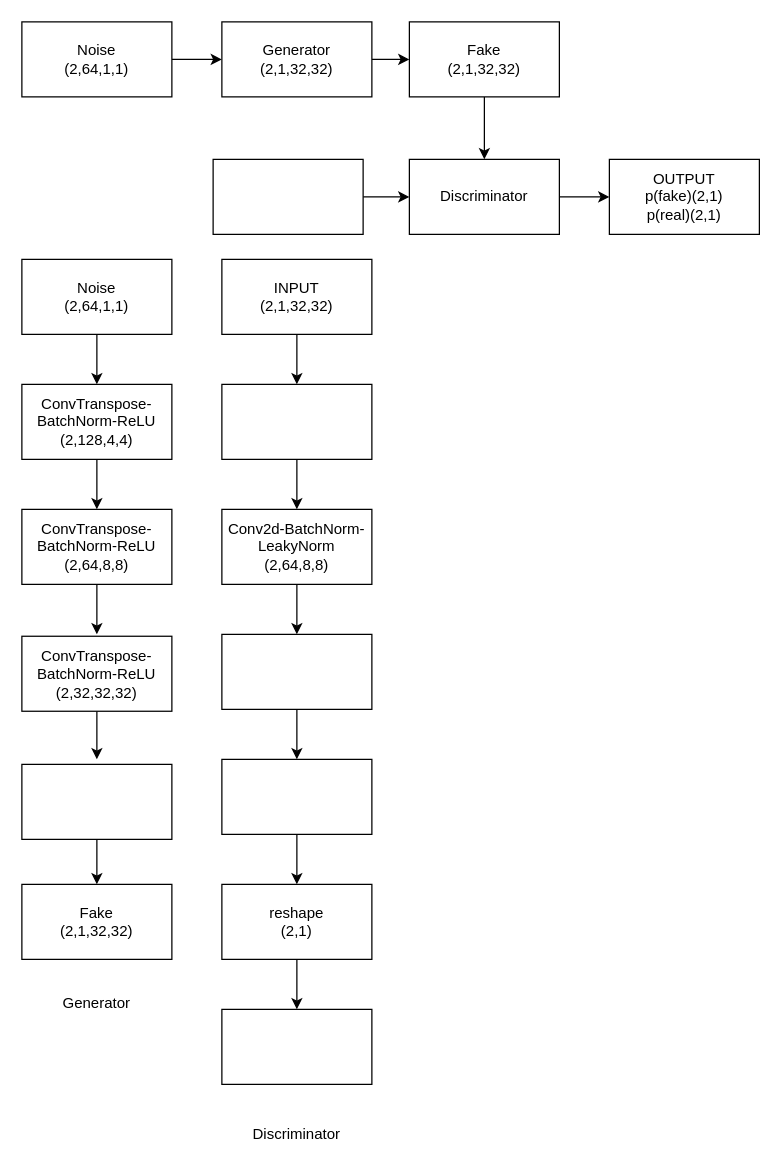
The diagram is 781 pixels wide and 1175 high, and some of its shapes have lost their labels. The shapes that lost their labels are listed below. From the top down, each one's centre as x and y in pixels, then its label:
At point 287,196: "Real Sample (2,1,32,32)".
At point 296,421: "Conv2d-LeakyReLU (2,32,16,16)".
At point 296,671: "Conv2d-BatchNorm-LeakyNorm (2,128,4,4)".
At point 96,801: "ConvTranspose-Tanh (2,1,32,32)".
At point 296,796: "Conv2d-Sigmoid (2,1,1,1)".
At point 296,1046: "OUTPUT (2,1)".
